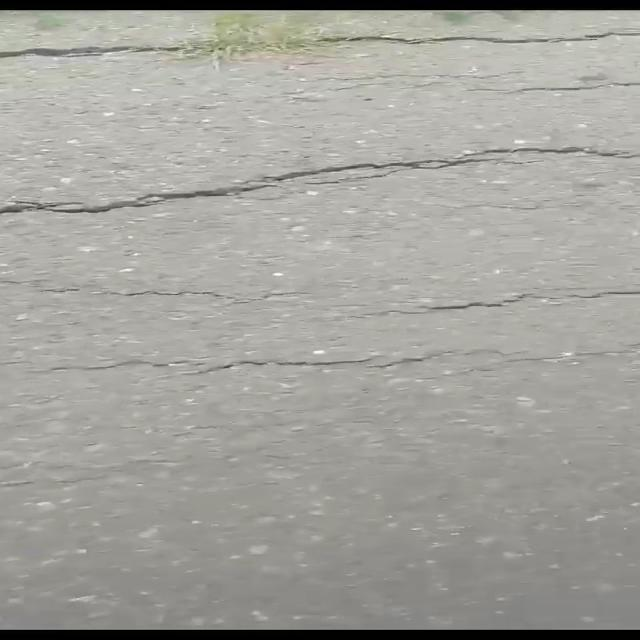Melintang: (0, 128, 640, 230)
